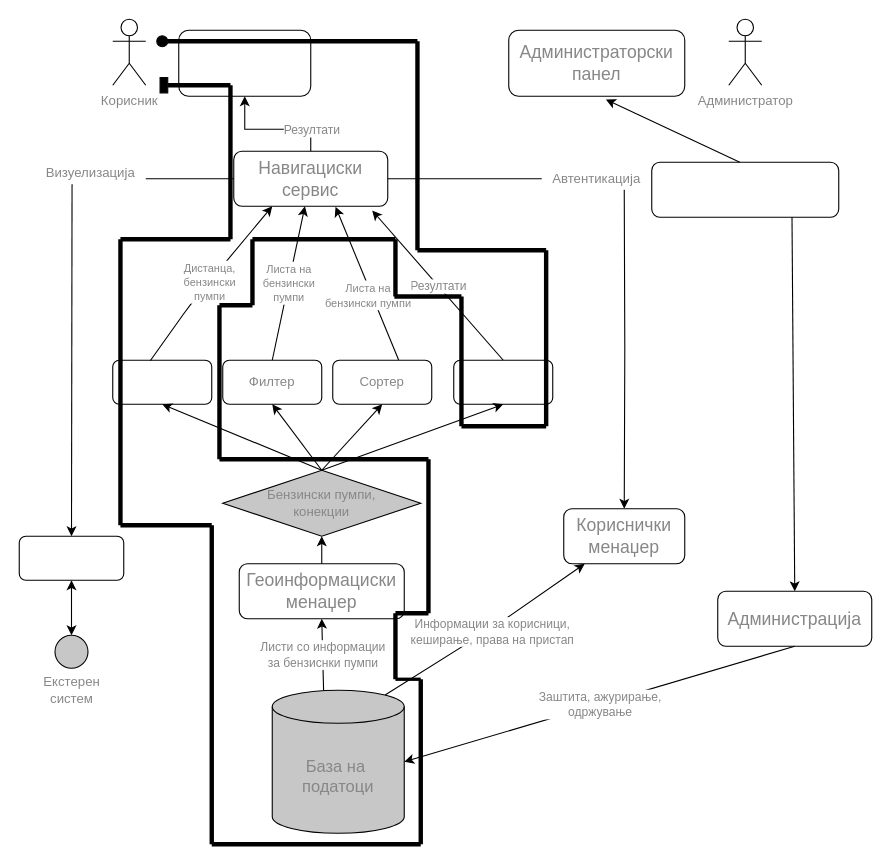
Some shapes in this 891 by 867 pixel diagram are drawn without their labels. The shapes that lost their labels are listed below. From the top down, each one's centre as x and y in pixels, then its label:
(244,62): Кориснички интерфејс
(745,189): Администраторски сервиси
(162,381): Наоѓач на дистанца
(503,381): Пребарувач
(71,557): Мапа
